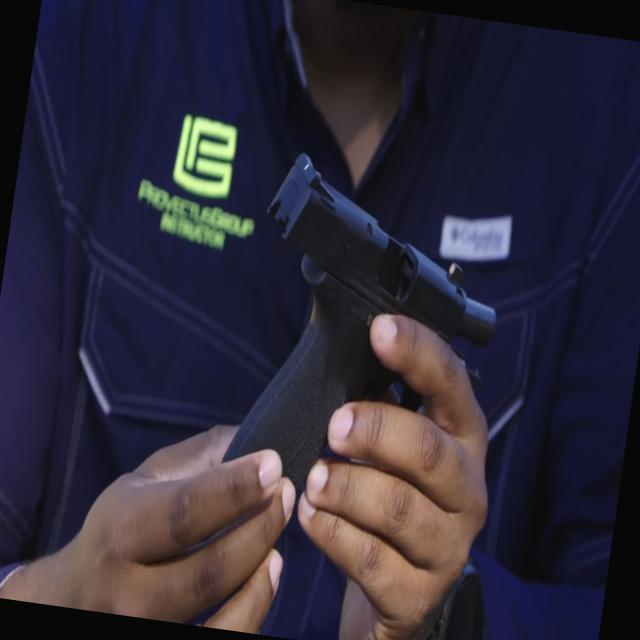handgun: (211, 135, 528, 566)
